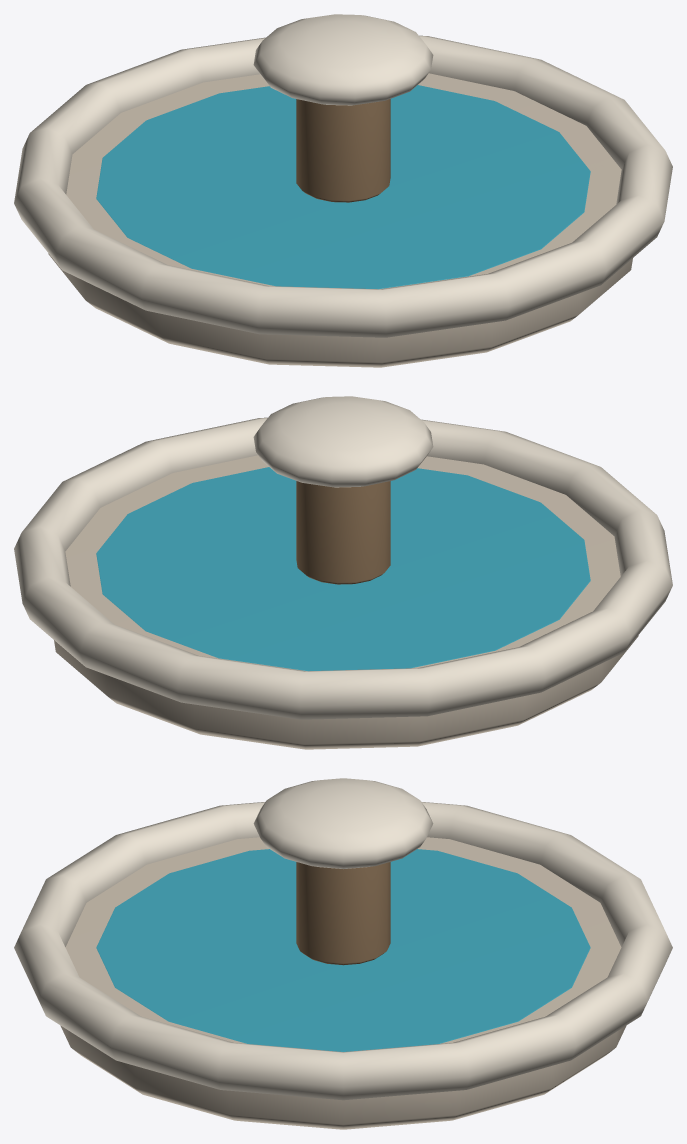
The model's file is fountain_district_lod2_v2.glb.
3 views of the same model, one above another, from view 1: azimuth 30°, elevation 25°; view 2: azimuth 150°, elevation 25°; view 3: azimuth 270°, elevation 25° (orthographic).
Parts seen in each view (by area): view 1: LOD2_FOUNTAIN_DISTRICT_Water, LOD2_FOUNTAIN_DISTRICT_SeatRing, LOD2_FOUNTAIN_DISTRICT_Basin, LOD2_FOUNTAIN_DISTRICT_Cap, LOD2_FOUNTAIN_DISTRICT_Stem; view 2: LOD2_FOUNTAIN_DISTRICT_Water, LOD2_FOUNTAIN_DISTRICT_SeatRing, LOD2_FOUNTAIN_DISTRICT_Basin, LOD2_FOUNTAIN_DISTRICT_Cap, LOD2_FOUNTAIN_DISTRICT_Stem; view 3: LOD2_FOUNTAIN_DISTRICT_Water, LOD2_FOUNTAIN_DISTRICT_SeatRing, LOD2_FOUNTAIN_DISTRICT_Basin, LOD2_FOUNTAIN_DISTRICT_Cap, LOD2_FOUNTAIN_DISTRICT_Stem.
Boxes of the visible parts, <box> form: LOD2_FOUNTAIN_DISTRICT_Water: <box>96,85,590,289</box>; LOD2_FOUNTAIN_DISTRICT_SeatRing: <box>14,35,672,337</box>; LOD2_FOUNTAIN_DISTRICT_Basin: <box>48,73,632,367</box>; LOD2_FOUNTAIN_DISTRICT_Cap: <box>253,14,433,105</box>; LOD2_FOUNTAIN_DISTRICT_Stem: <box>296,99,390,202</box>; LOD2_FOUNTAIN_DISTRICT_Water: <box>96,467,590,671</box>; LOD2_FOUNTAIN_DISTRICT_SeatRing: <box>14,417,672,719</box>; LOD2_FOUNTAIN_DISTRICT_Basin: <box>54,455,638,749</box>; LOD2_FOUNTAIN_DISTRICT_Cap: <box>253,396,433,487</box>; LOD2_FOUNTAIN_DISTRICT_Stem: <box>296,481,390,584</box>; LOD2_FOUNTAIN_DISTRICT_Water: <box>96,849,590,1051</box>; LOD2_FOUNTAIN_DISTRICT_SeatRing: <box>14,802,672,1100</box>; LOD2_FOUNTAIN_DISTRICT_Basin: <box>60,837,626,1129</box>; LOD2_FOUNTAIN_DISTRICT_Cap: <box>253,778,433,868</box>; LOD2_FOUNTAIN_DISTRICT_Stem: <box>296,862,390,965</box>.
Size of what is drawn, in the model's own units: 7.7 by 2.74 by 7.7.
